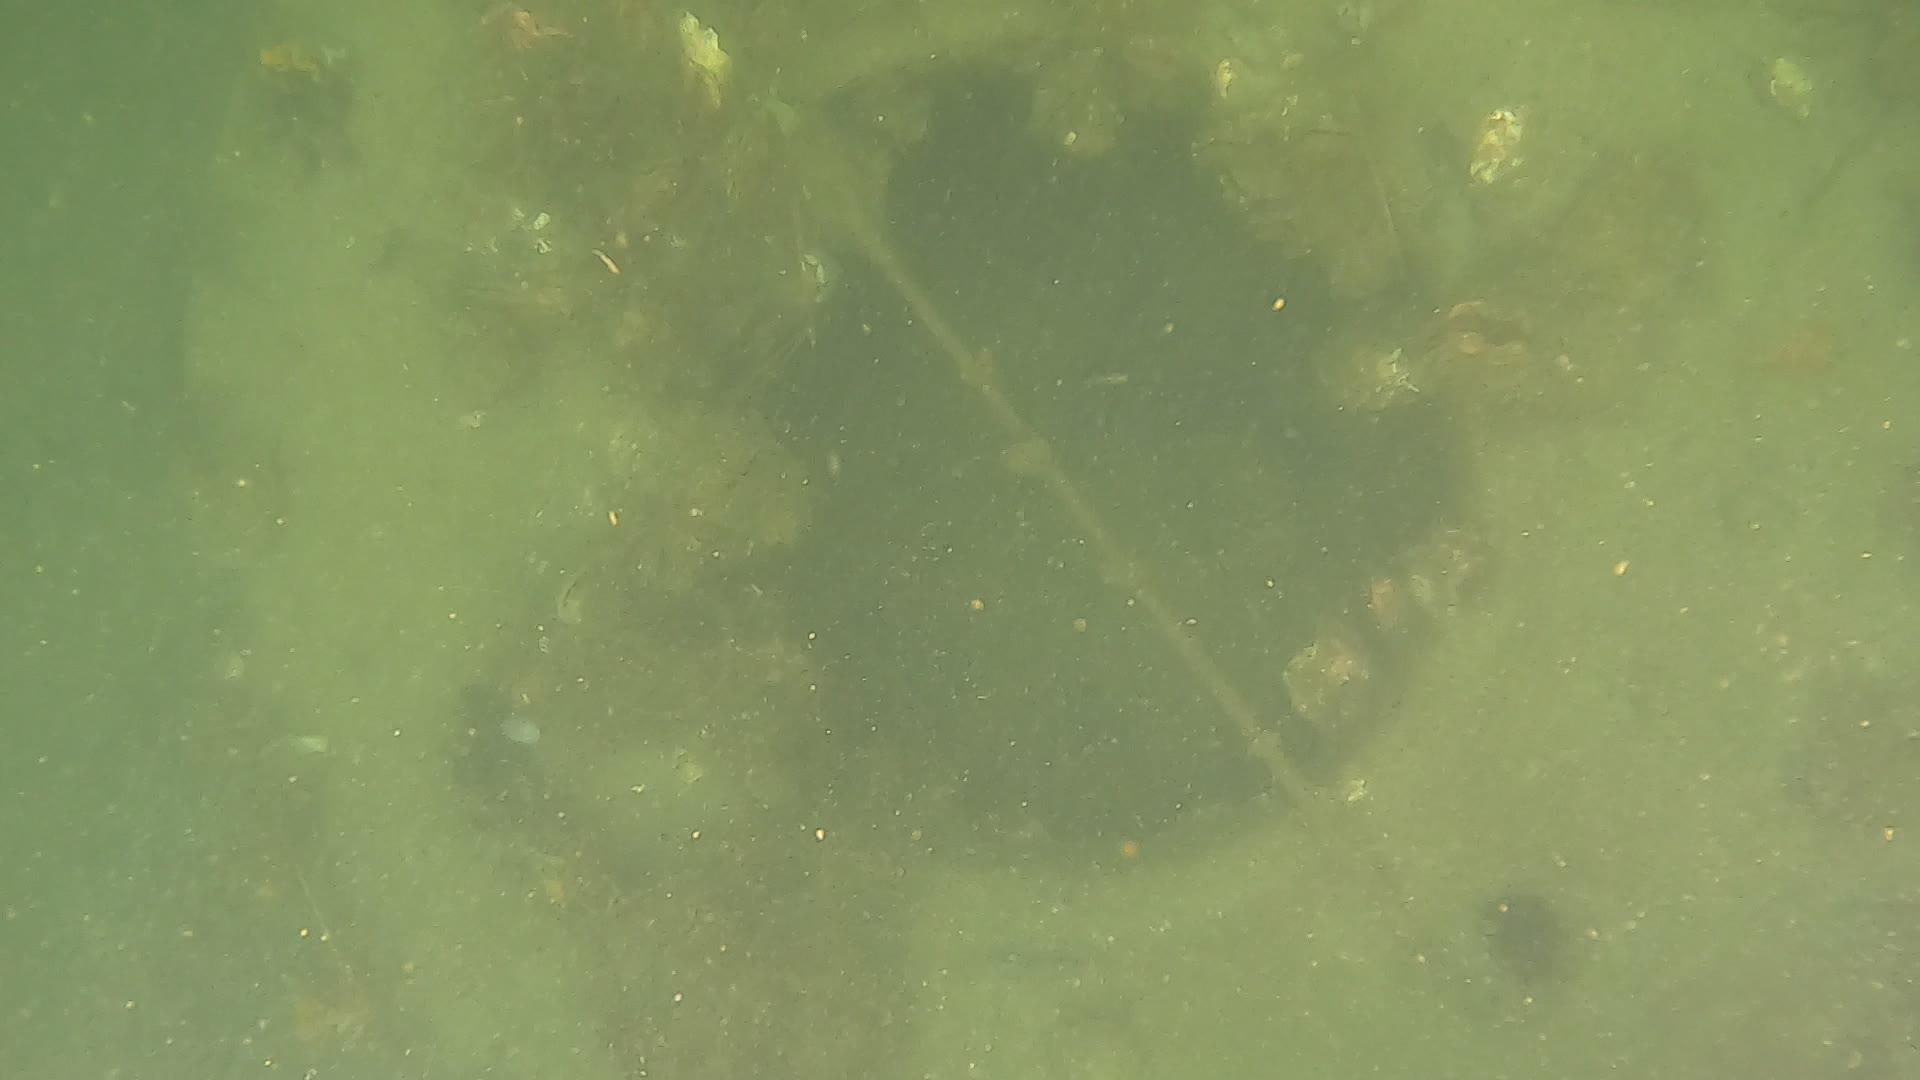tire: (185, 0, 1920, 1080)
